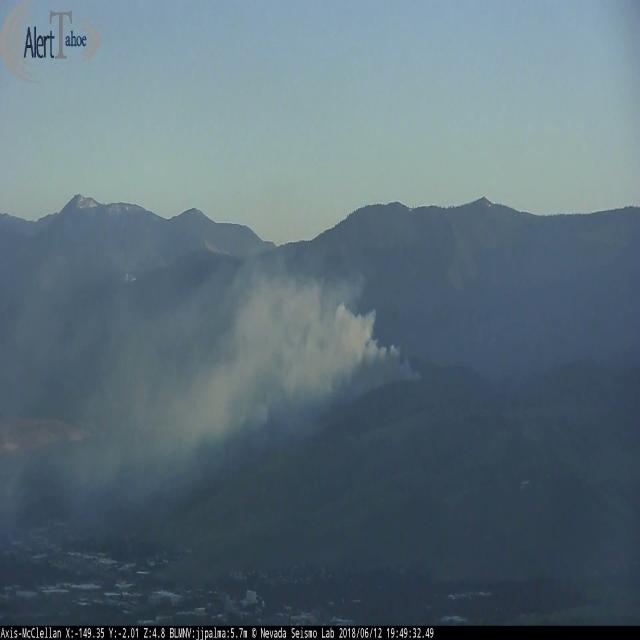smoke: (72, 231, 422, 531)
